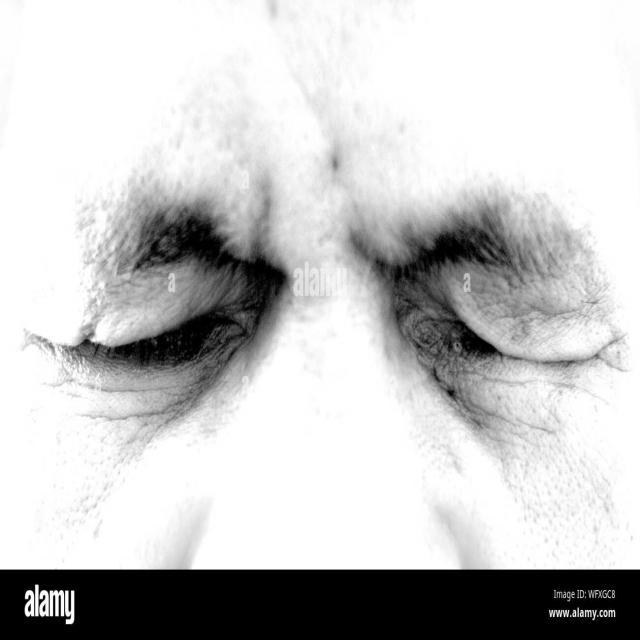real: (46, 124, 628, 474)
